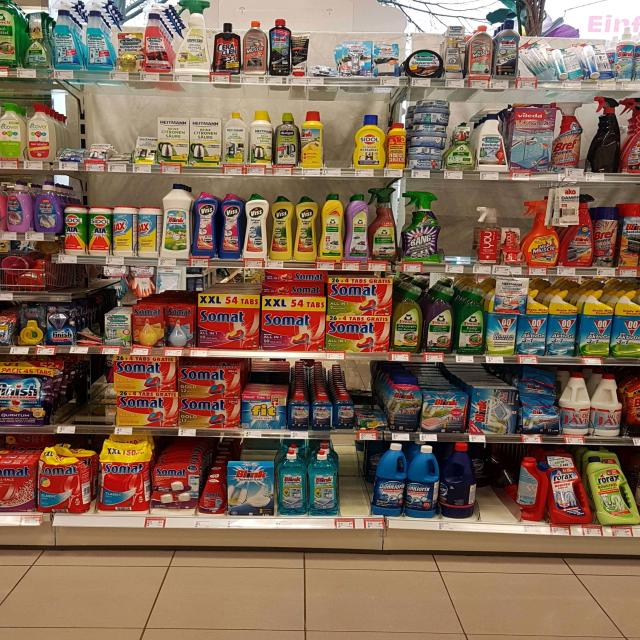void: (342, 441, 372, 528), (87, 354, 117, 434), (57, 358, 86, 434), (447, 189, 472, 272), (520, 14, 546, 92), (325, 100, 350, 178)
